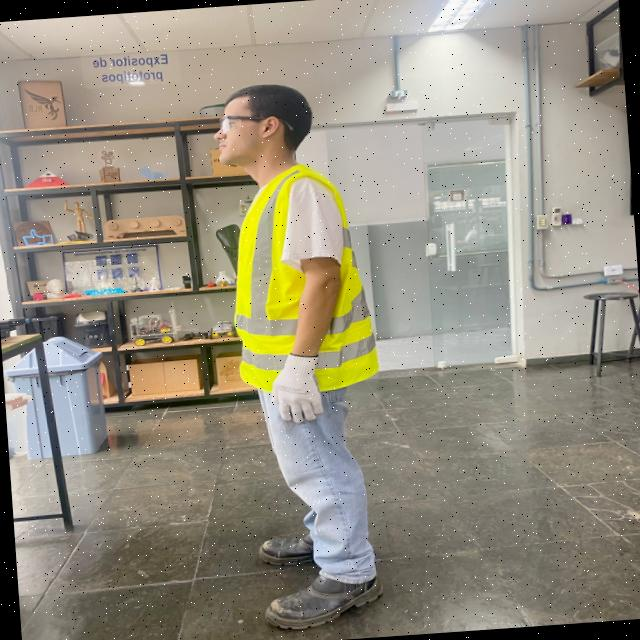BOTA: (259, 556, 384, 633), (255, 519, 376, 569)
COLETE: (228, 162, 381, 393)
LUVA: (267, 349, 327, 427)
OCULOS: (214, 113, 295, 135)
